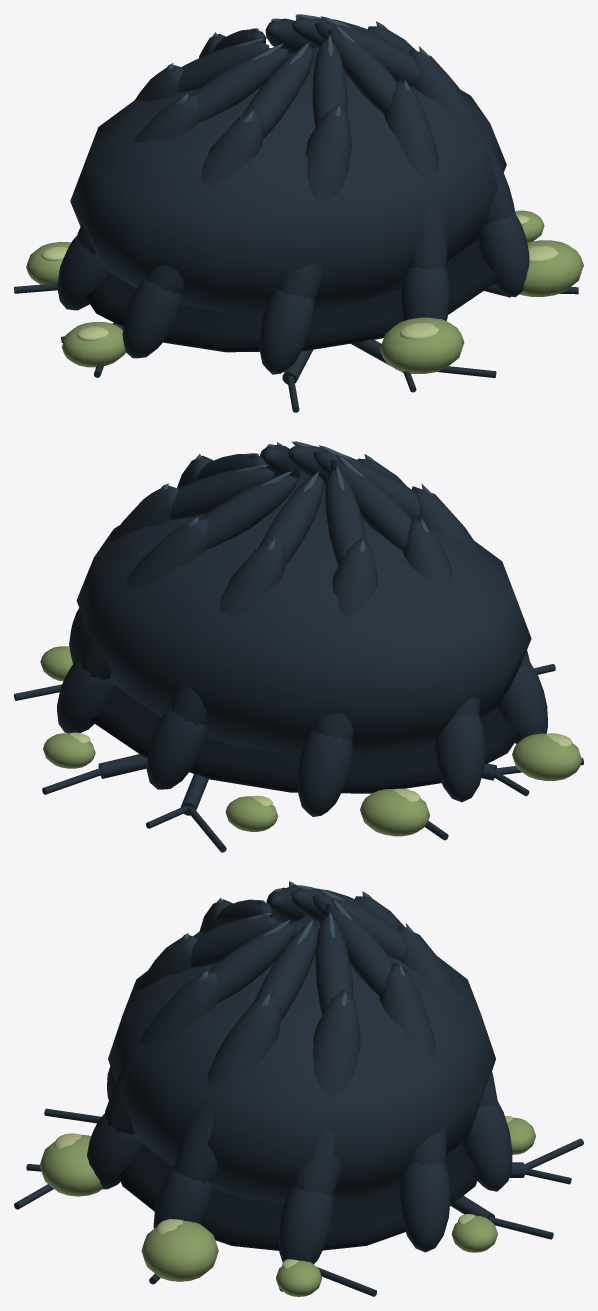
Rendered from CMU3DHiveRMCHiveCocoonKing.glb.
3 renders of one model, top to bottom at view 1: azimuth 30°, elevation 25°; view 2: azimuth 150°, elevation 25°; view 3: azimuth 270°, elevation 25°, orthographic. The views are drawn at different scales.
Parts seen in each view (by area): view 1: curled inner cocoon, curled overlapping cocoon plate (×20), cocoon basal tissue, peripheral nutrient blister (×5), blister highlight; view 2: curled inner cocoon, curled overlapping cocoon plate (×21), cocoon basal tissue, peripheral nutrient blister (×5), sinuous anchoring root (×2); view 3: curled overlapping cocoon plate (×20), curled inner cocoon, cocoon basal tissue, peripheral nutrient blister (×5).
Part boxes in pixels (left/top/right/bottom): curled inner cocoon: left=70, top=47, right=506, bottom=313; curled overlapping cocoon plate (×20): left=57, top=18, right=529, bottom=374; cocoon basal tissue: left=85, top=240, right=500, bottom=352; peripheral nutrient blister (×5): left=26, top=210, right=583, bottom=373; blister highlight: left=400, top=323, right=438, bottom=339; curled inner cocoon: left=76, top=478, right=531, bottom=755; curled overlapping cocoon plate (×21): left=57, top=445, right=547, bottom=816; cocoon basal tissue: left=89, top=686, right=520, bottom=793; peripheral nutrient blister (×5): left=40, top=646, right=582, bottom=836; sinuous anchoring root (×2): left=98, top=754, right=208, bottom=815; curled overlapping cocoon plate (×20): left=87, top=887, right=512, bottom=1264; curled inner cocoon: left=108, top=915, right=495, bottom=1202; cocoon basal tissue: left=118, top=1143, right=480, bottom=1250; peripheral nutrient blister (×5): left=39, top=1117, right=535, bottom=1296.
Size of the model in its own units: 1.96 by 1.01 by 1.88.
